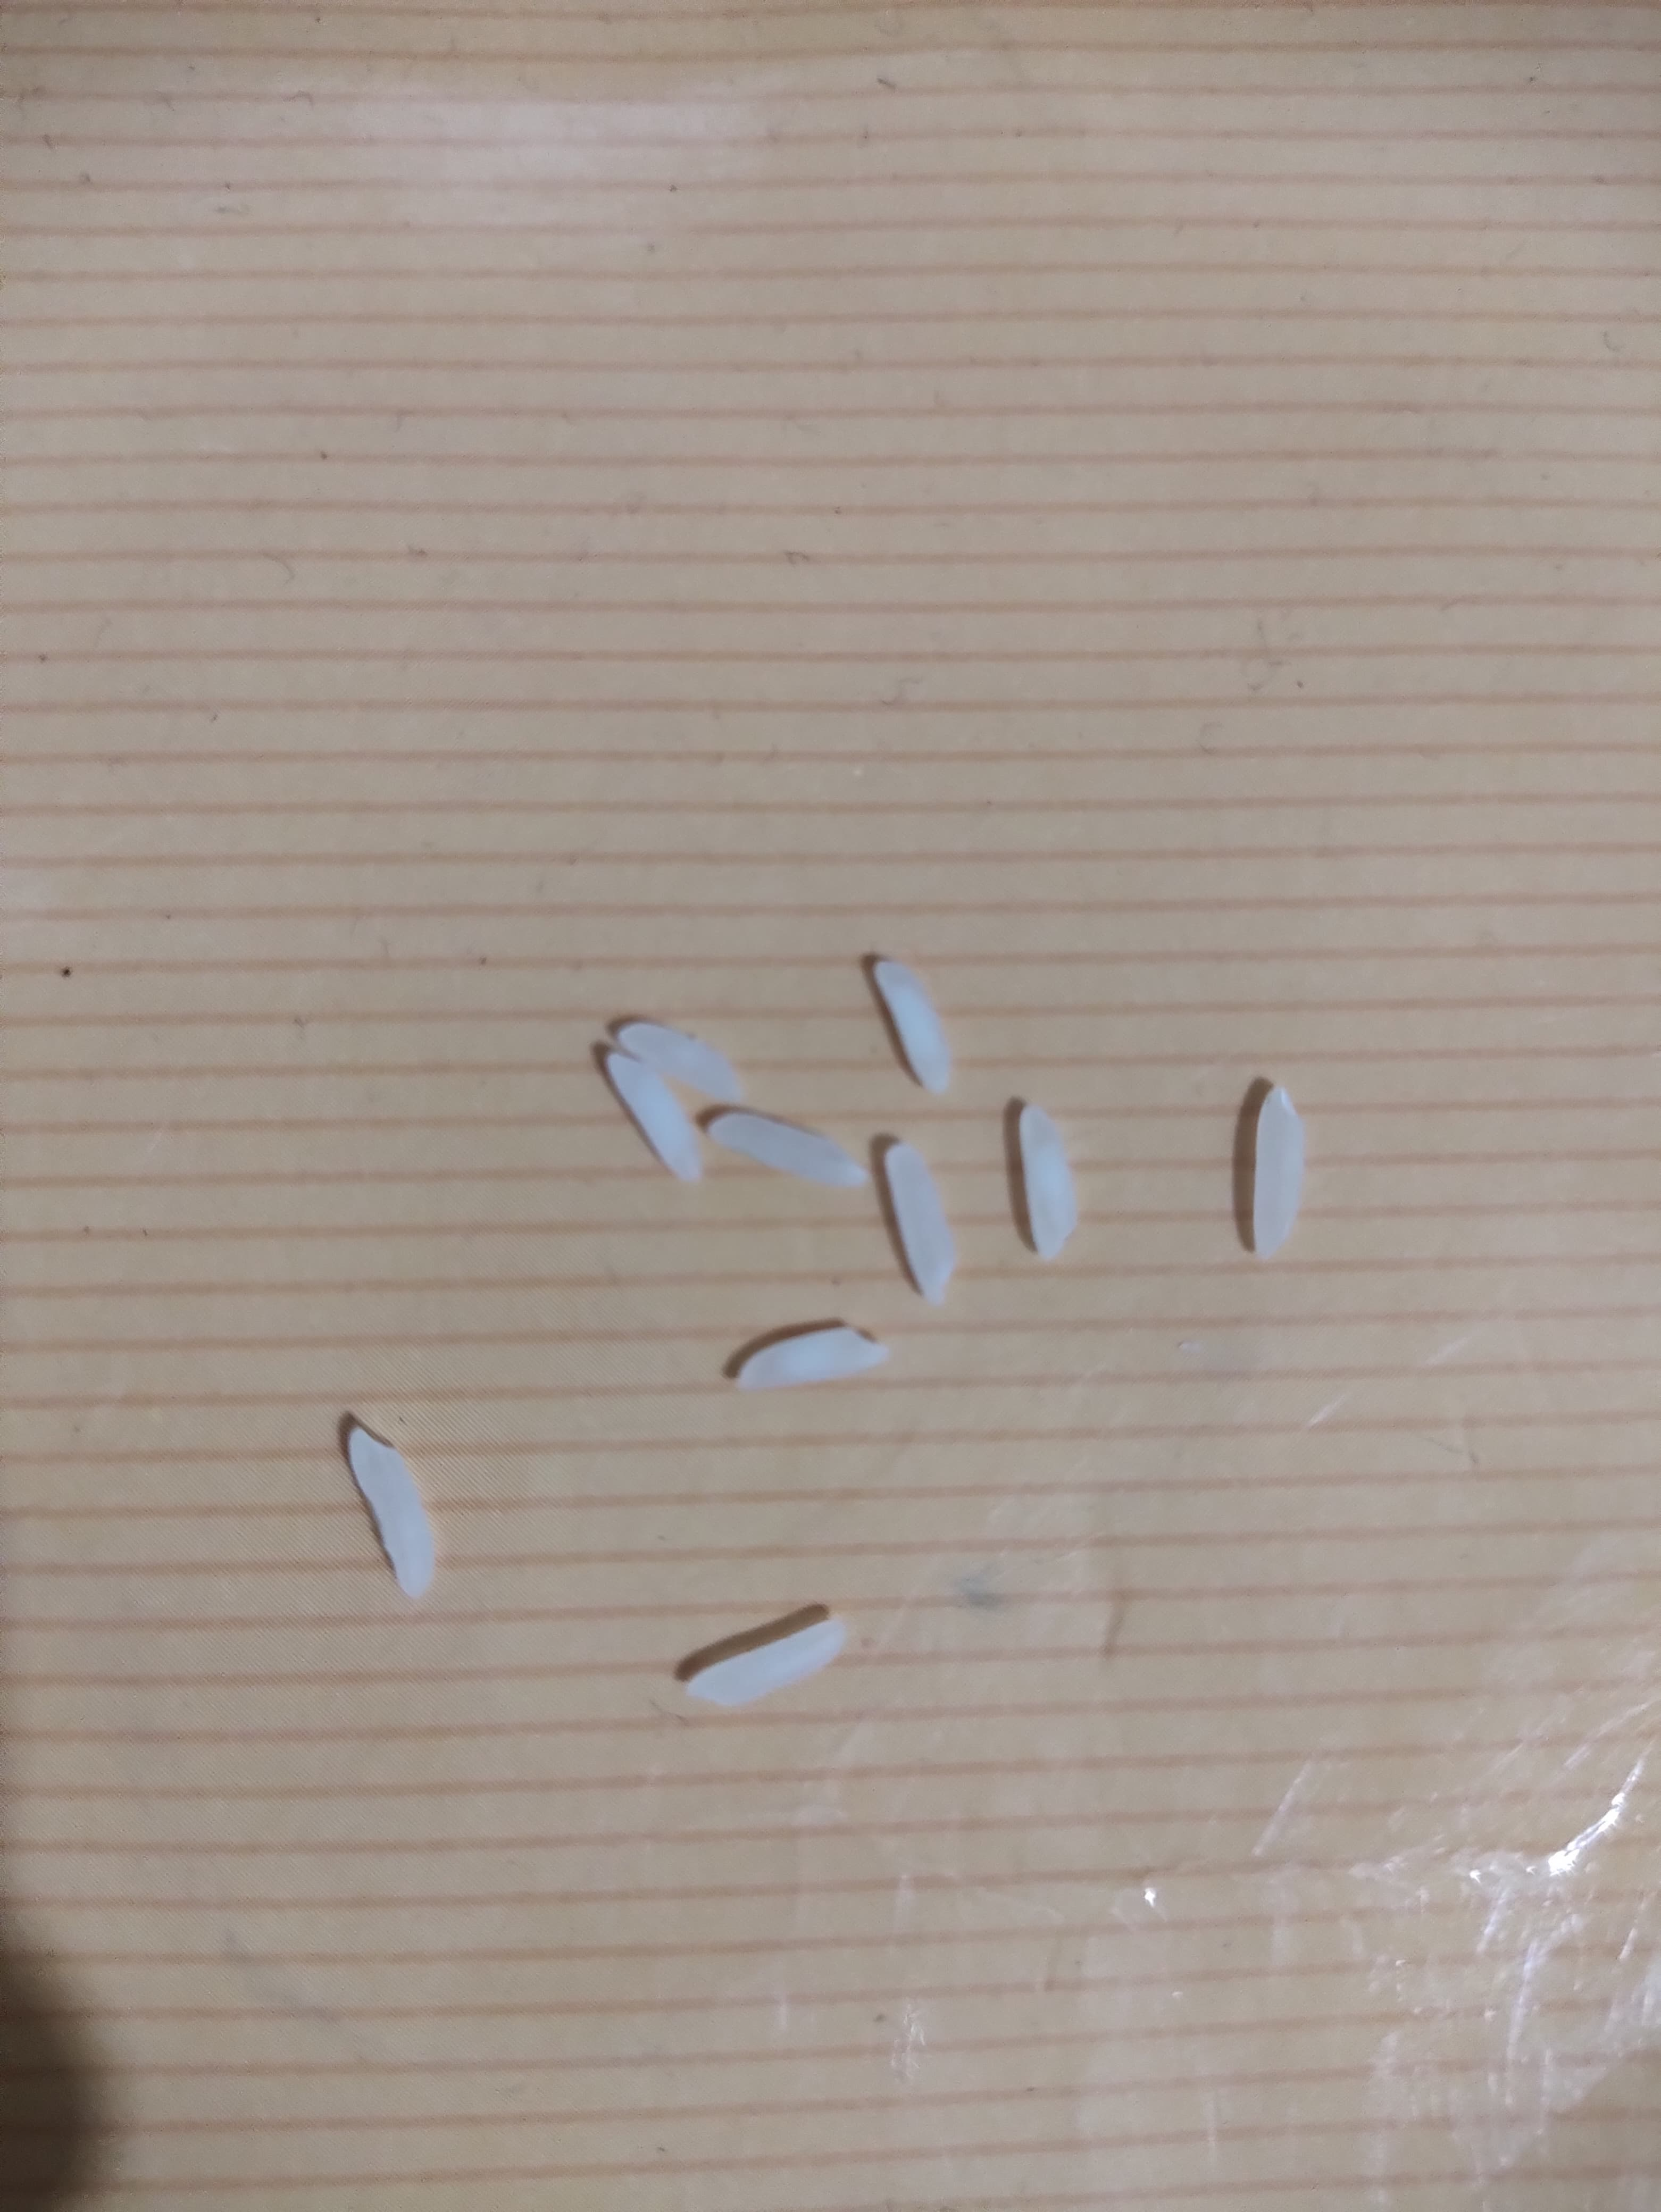complete_grain: (657, 1589, 857, 1727), (342, 1410, 455, 1625), (1223, 1068, 1323, 1272), (712, 1314, 912, 1412), (593, 1038, 710, 1200), (857, 938, 963, 1106), (702, 1108, 874, 1208), (872, 1123, 965, 1312), (604, 1010, 767, 1115), (1010, 1093, 1087, 1274)
